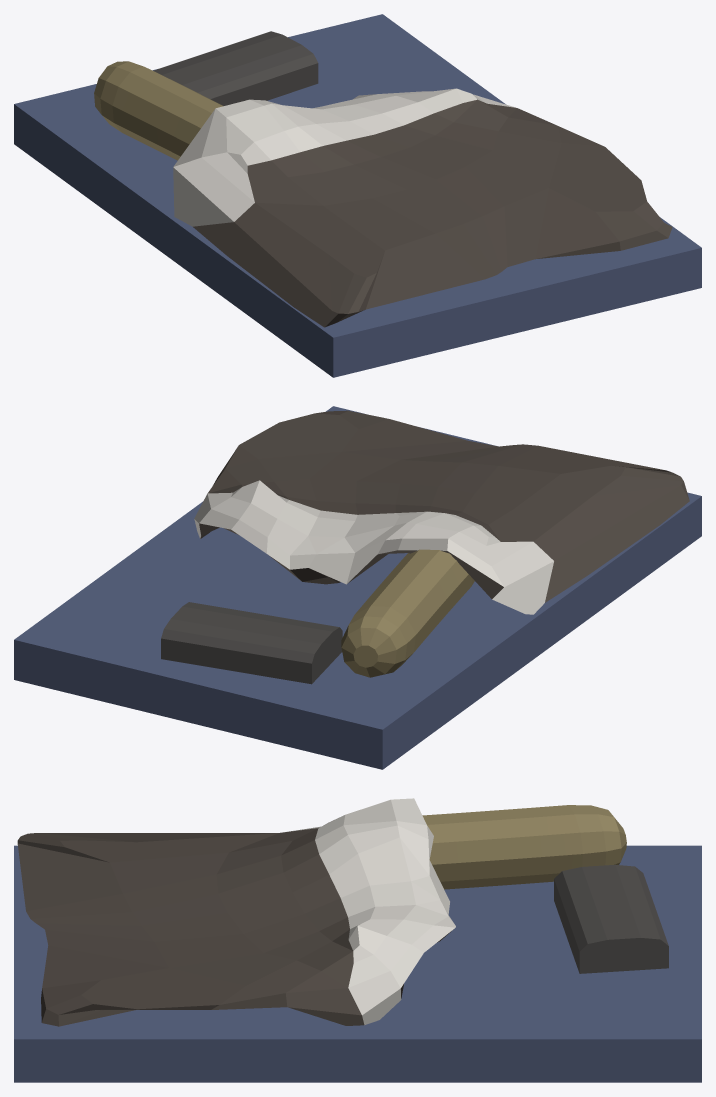
The model's file is bed.fbx.
3 renders of one model, top to bottom at view 1: azimuth 30°, elevation 25°; view 2: azimuth 150°, elevation 25°; view 3: azimuth 270°, elevation 25°, orthographic. The views are drawn at different scales.
Visible parts, largest first — view 1: Cube.002, Bed, Pillow, Pillow 2; view 2: Bed, Cube.002, Pillow, Pillow 2; view 3: Bed, Cube.002, Pillow 2, Pillow.
Part boxes in pixels (x1=…): Cube.002: x1=173, y1=88, x2=672, y2=327; Bed: x1=14, y1=14, x2=701, y2=377; Pillow: x1=153, y1=31, x2=318, y2=105; Pillow 2: x1=94, y1=61, x2=223, y2=160; Bed: x1=14, y1=406, x2=701, y2=769; Cube.002: x1=194, y1=410, x2=689, y2=614; Pillow: x1=161, y1=602, x2=342, y2=684; Pillow 2: x1=341, y1=549, x2=474, y2=677; Bed: x1=14, y1=845, x2=701, y2=1082; Cube.002: x1=17, y1=798, x2=455, y2=1026; Pillow 2: x1=422, y1=805, x2=626, y2=889; Pillow: x1=554, y1=864, x2=668, y2=973.
Size of the model in its own units: 2 by 0.6066 by 3.
